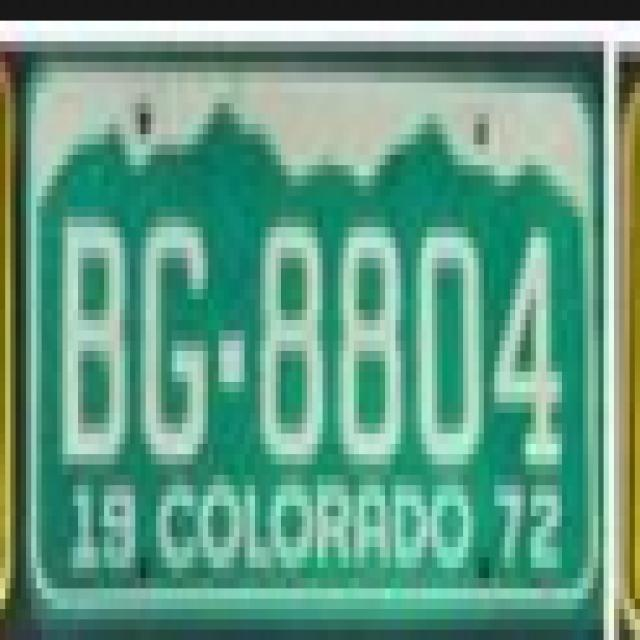0: (412, 213, 488, 478)
4: (493, 210, 570, 472)
8: (256, 211, 330, 477), (336, 208, 406, 470)
B: (54, 203, 134, 477)
G: (136, 201, 216, 466)
